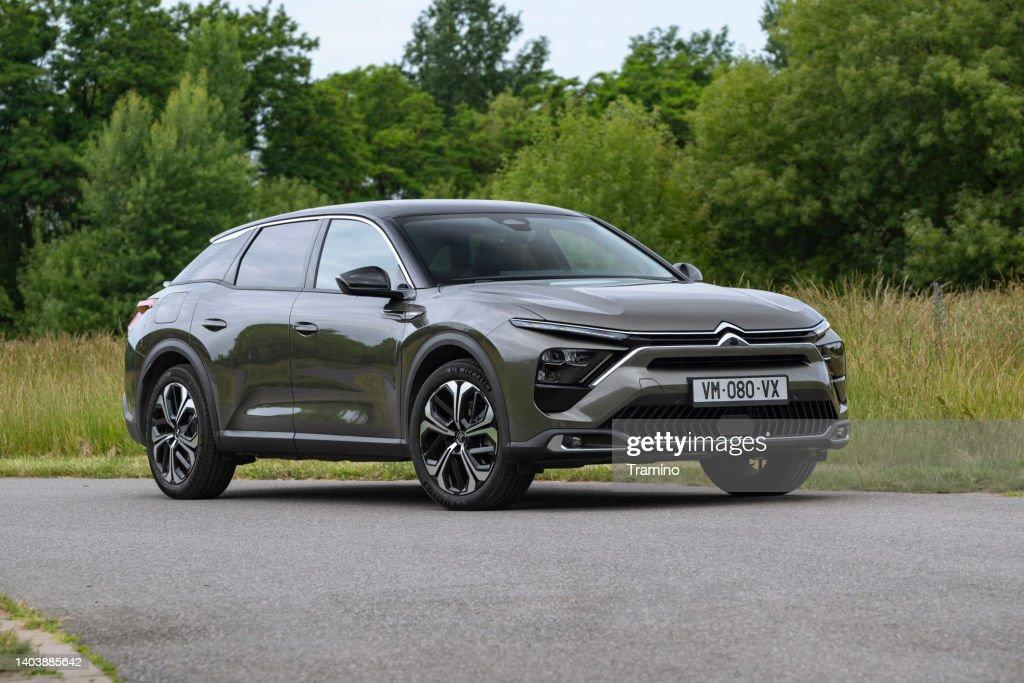Citroen: (709, 312, 753, 358)
